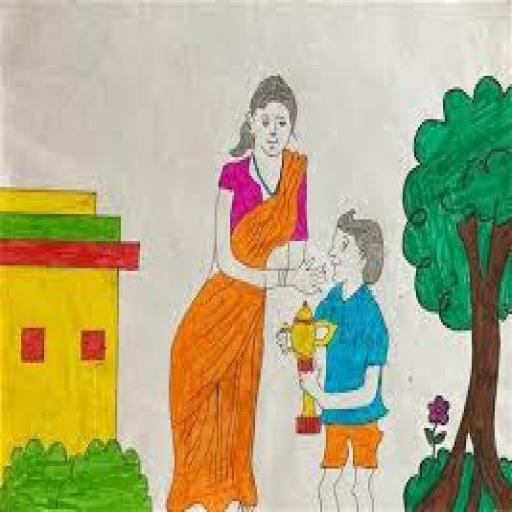person: (149, 58, 314, 510), (277, 196, 414, 509)
